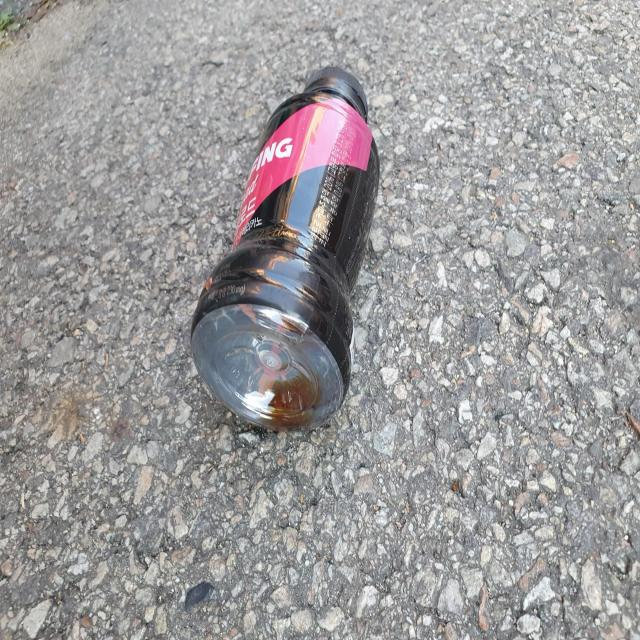plastic: (191, 66, 380, 431)
